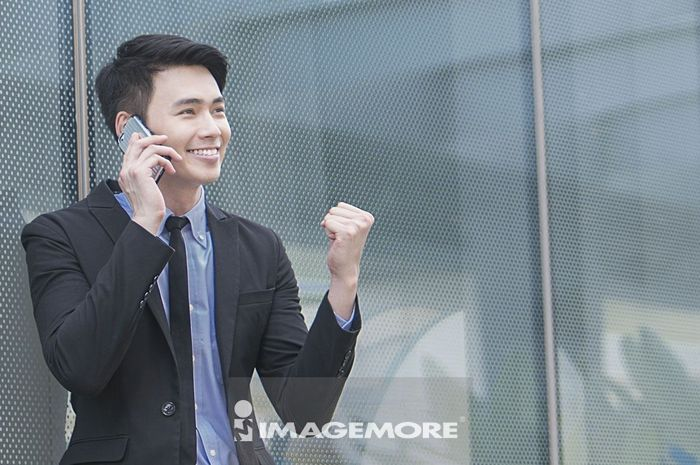phone: (119, 117, 164, 183)
talk: (115, 88, 233, 226)
